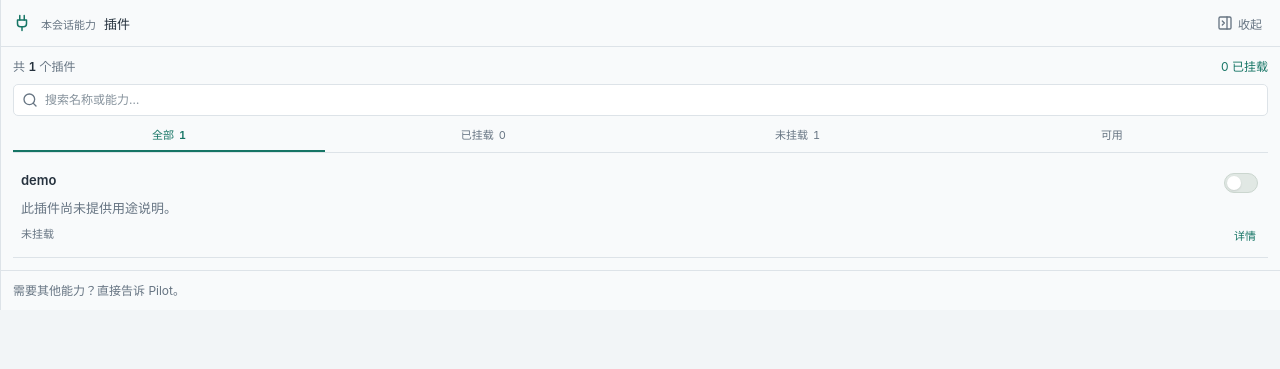
Scenario: the session plugin panel › preserves known rows after a failed poll and refuses an older GET overwriting a successful change
This screenshot has width=1280, height=369.
What coordinates should you click on to do the following:
click the switch with class "session-plugin-switch"
I would click on:
 (1241, 183)
Its box is 1222,171 -> 1260,195.
Wait 4000 ms
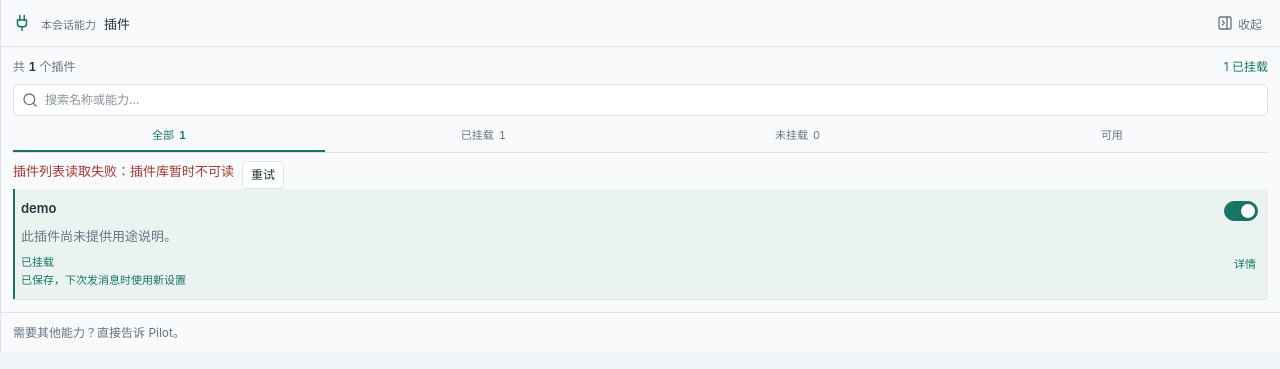
Expected: the text "插件库暂时不可读" is shown, 130,163 -> 234,179
